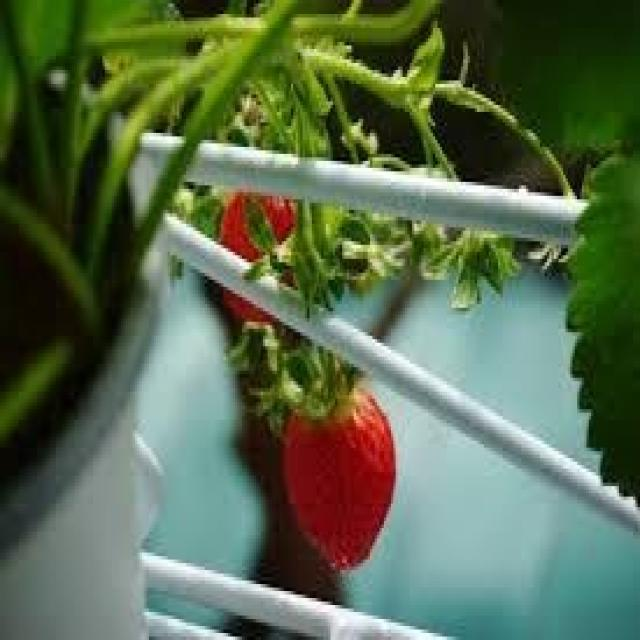mature: (282, 388, 396, 572)
